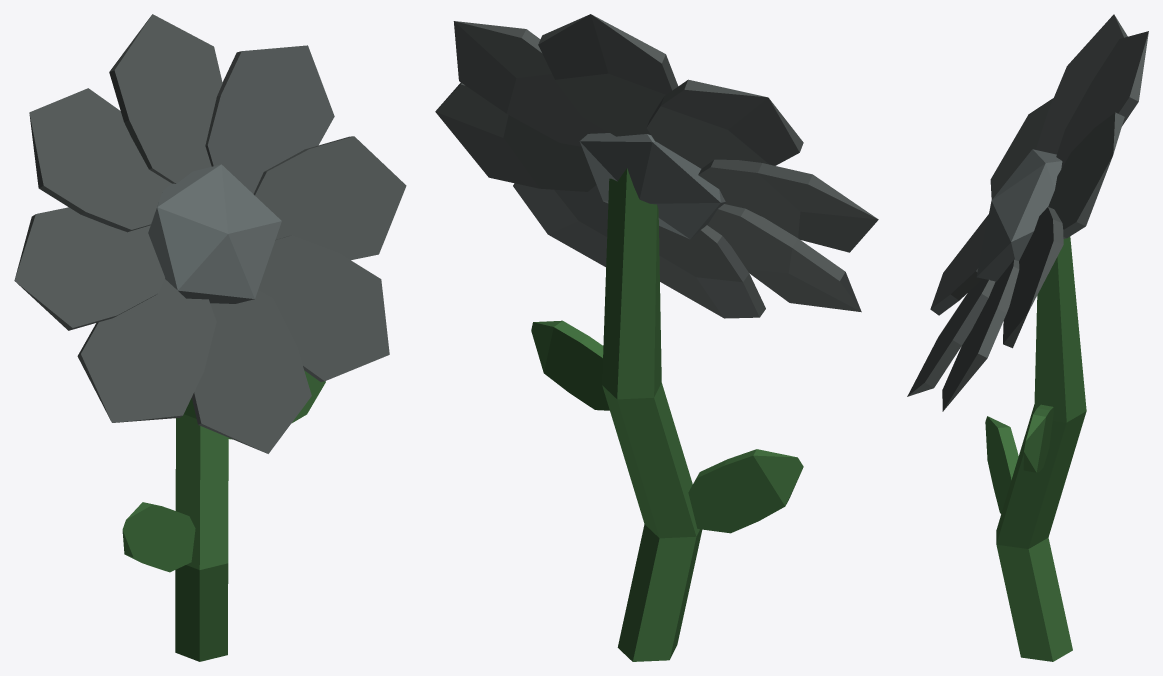
The model's file is Flower_4_Gray.fbx.
3 views of the same model, side by side, from view 1: azimuth 30°, elevation 25°; view 2: azimuth 150°, elevation 25°; view 3: azimuth 270°, elevation 25° (orthographic). The views are drawn at different scales.
Visible parts, largest first — view 1: Flower_4_Gray_Part_1, Flower_4_Gray_Part_3, Flower_4_Gray_Part_2; view 2: Flower_4_Gray_Part_1, Flower_4_Gray_Part_3, Flower_4_Gray_Part_2; view 3: Flower_4_Gray_Part_1, Flower_4_Gray_Part_3, Flower_4_Gray_Part_2.
Part boxes in pixels (bbox=[...]): Flower_4_Gray_Part_1: bbox=[14, 14, 406, 453]; Flower_4_Gray_Part_3: bbox=[122, 370, 325, 661]; Flower_4_Gray_Part_2: bbox=[148, 164, 281, 303]; Flower_4_Gray_Part_1: bbox=[435, 14, 878, 318]; Flower_4_Gray_Part_3: bbox=[531, 168, 803, 661]; Flower_4_Gray_Part_2: bbox=[579, 133, 725, 239]; Flower_4_Gray_Part_1: bbox=[907, 14, 1148, 411]; Flower_4_Gray_Part_3: bbox=[985, 236, 1086, 661]; Flower_4_Gray_Part_2: bbox=[976, 149, 1062, 281].
Size of the model in its own units: 32.5 by 47.45 by 16.79.
